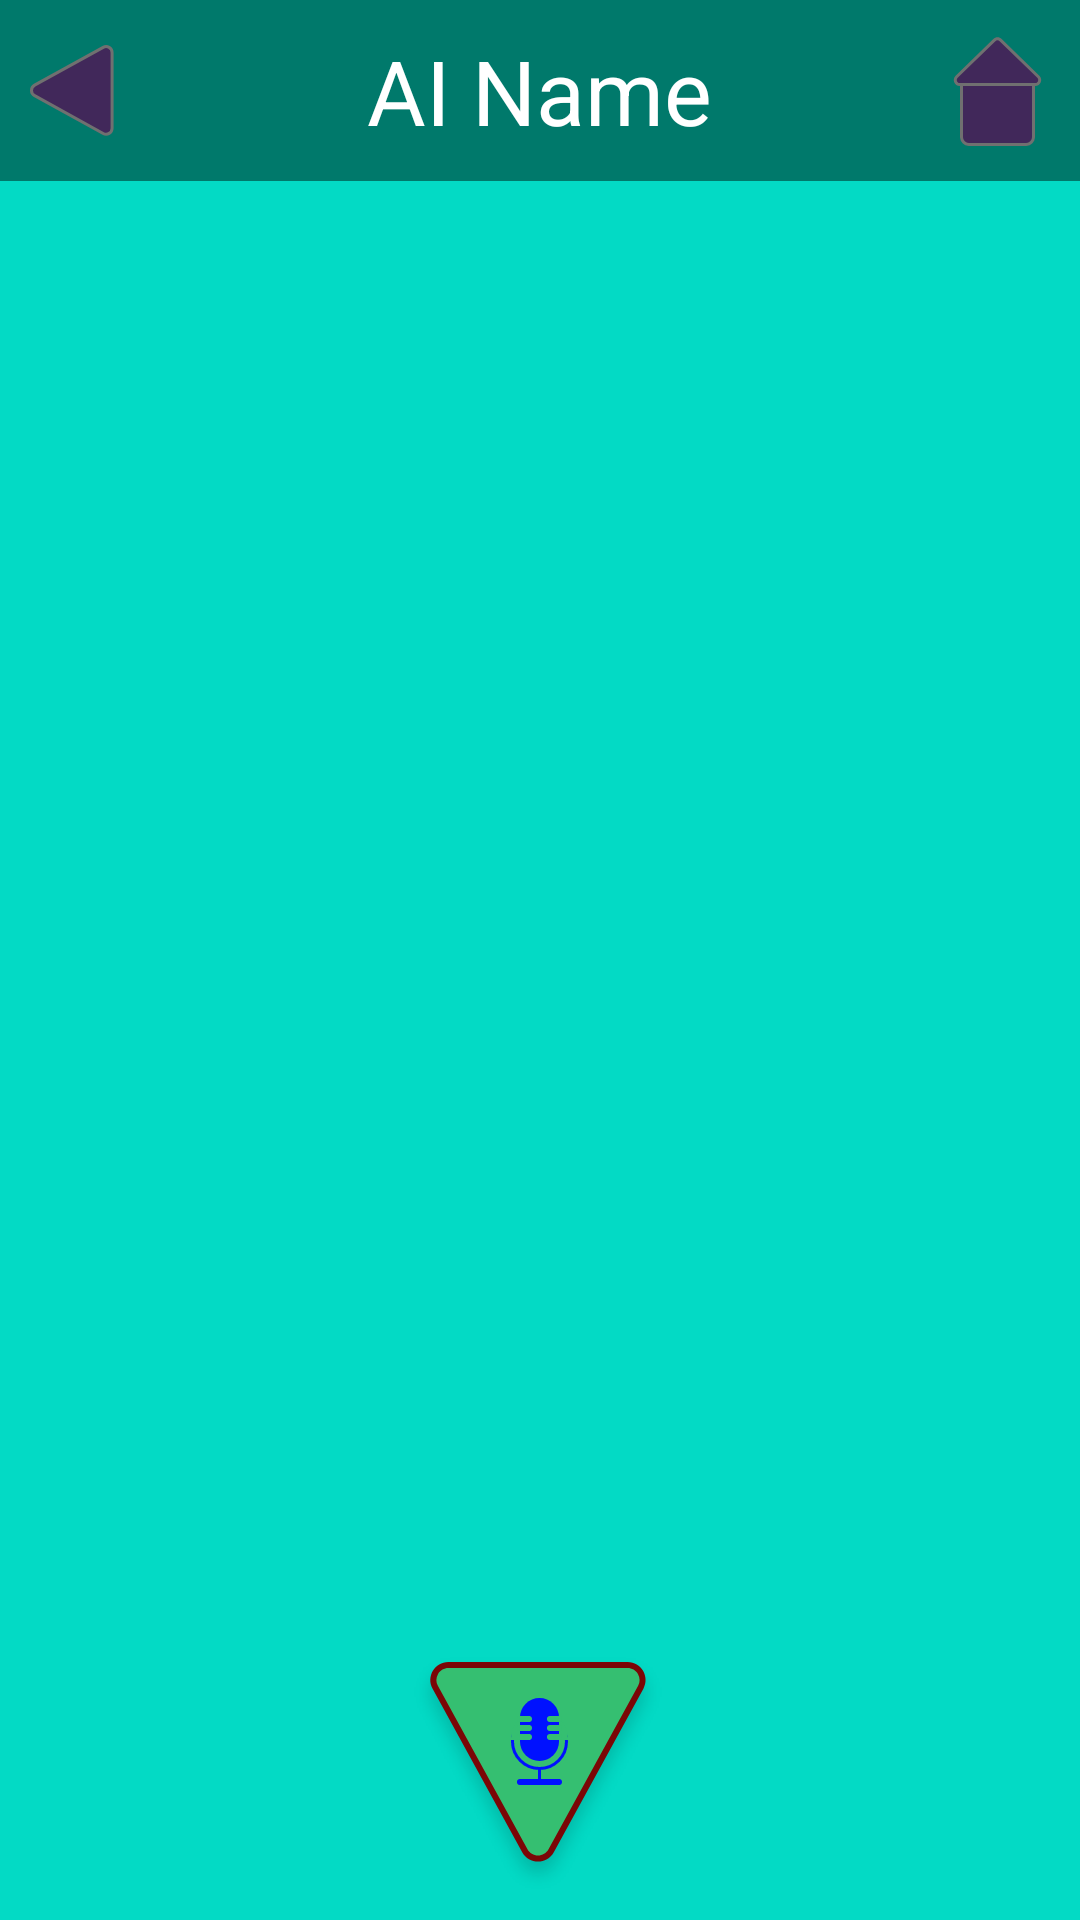

Named icons in this screenshot (1080×1920) and their bounding boxes, box=[x1, y1, x2, y2]:
home: box=[954, 37, 1041, 146]
